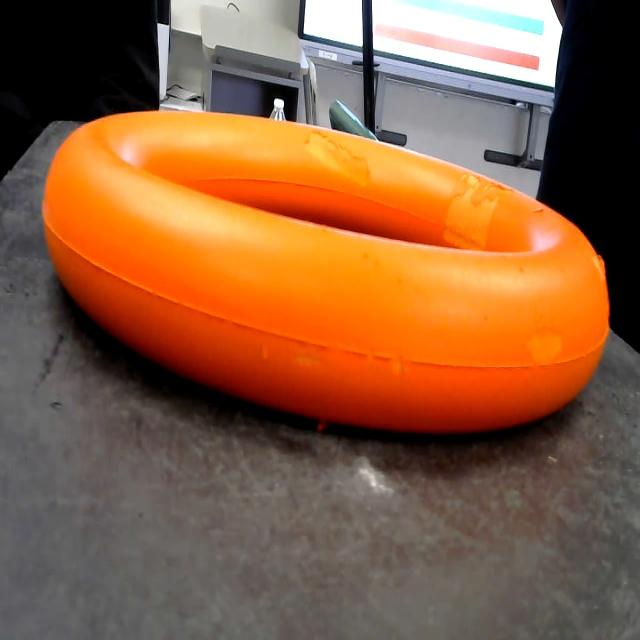note: (26, 97, 627, 465)
